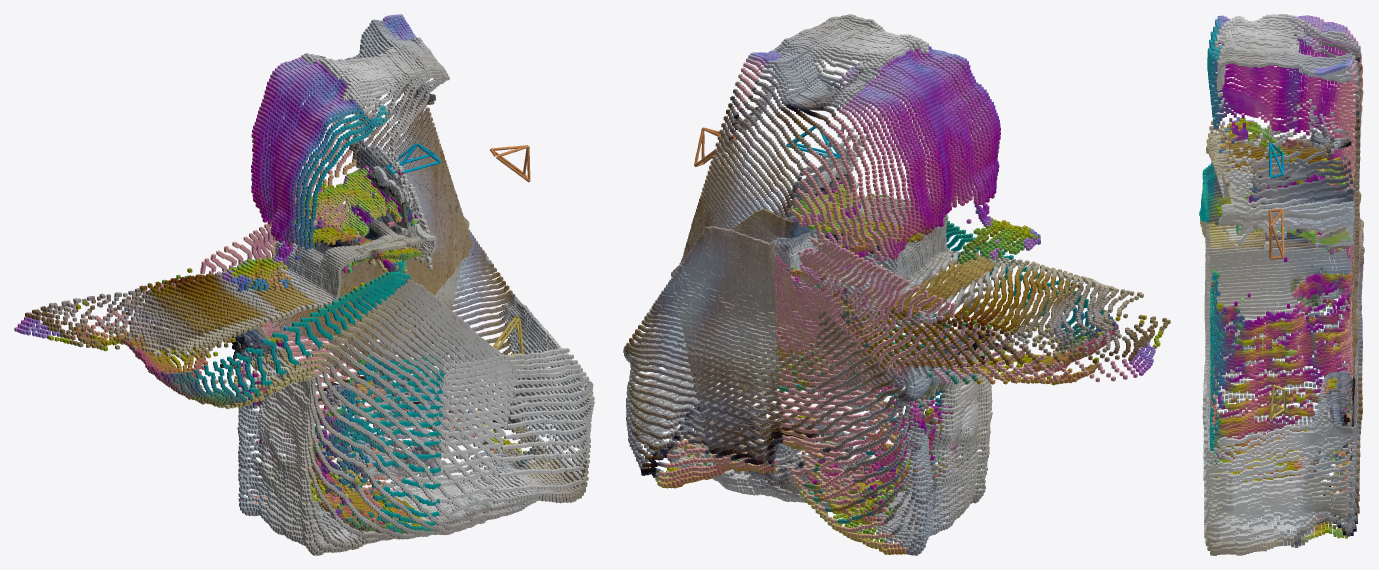
The model's file is pred-compressed.glb.
3 views of the same model, side by side, from view 1: azimuth 30°, elevation 25°; view 2: azimuth 150°, elevation 25°; view 3: azimuth 270°, elevation 25° (orthographic). The views are drawn at different scales.
Bounding box in the file's own units: 8.87 × 7.76 × 2.59.
